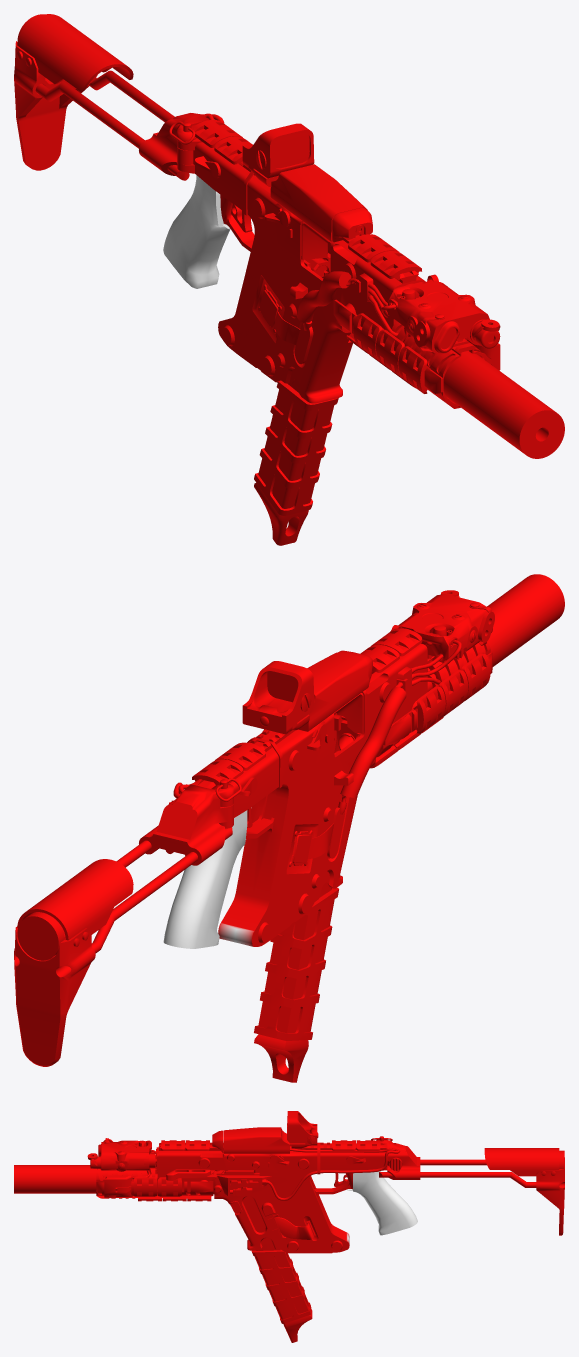
The model's file is SMG_SM.FBX.
The picture shows the model from 3 angles, top to bottom: view 1: azimuth 30°, elevation 25°; view 2: azimuth 150°, elevation 25°; view 3: azimuth 270°, elevation 25°; orthographic projection. The views are drawn at different scales.
Parts seen in each view (by area): view 1: SMG_SM; view 2: SMG_SM; view 3: SMG_SM.
Part boxes in pixels (left/top/right/bottom): SMG_SM: left=14, top=14, right=564, bottom=545; SMG_SM: left=14, top=574, right=564, bottom=1082; SMG_SM: left=14, top=1111, right=564, bottom=1342.
Size of what is drawn, in the model's own units: 8.56 by 88.15 by 39.88.
